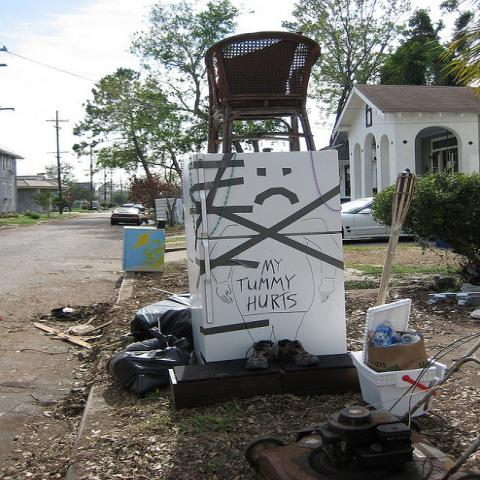car: (341, 197, 393, 240), (111, 208, 144, 226), (133, 203, 145, 213), (121, 202, 135, 207), (88, 206, 99, 210)
